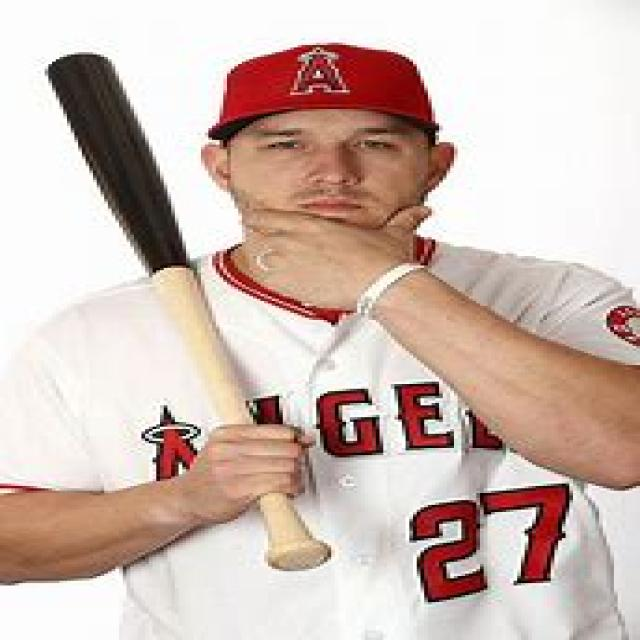bat: (40, 44, 346, 585)
